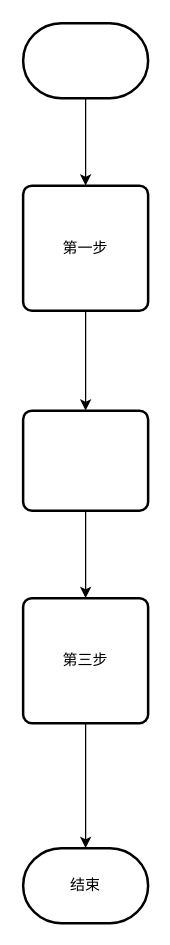
Some shapes in this 170 by 945 pixel diagram are drawn without their labels. The centre of each missing label's shape, as x and y in pixels:
"开始" belongs at point 85,60.
"第二步" belongs at point 85,460.
